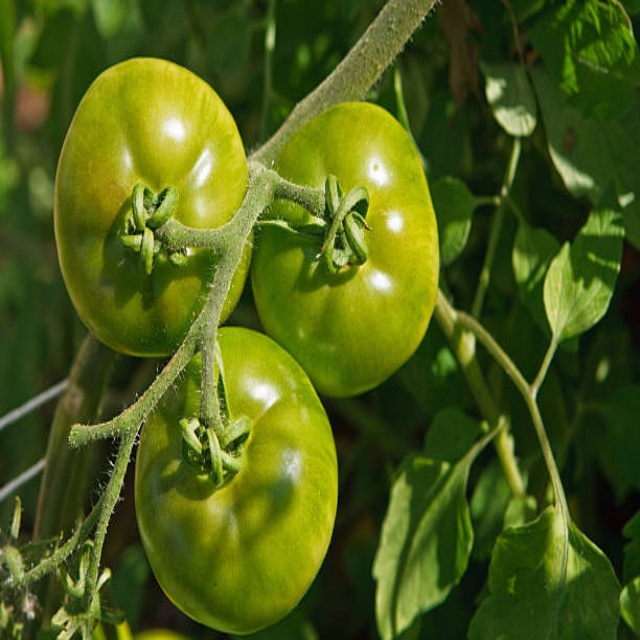tomato: (135, 326, 339, 631), (45, 58, 248, 349), (258, 110, 436, 397)
